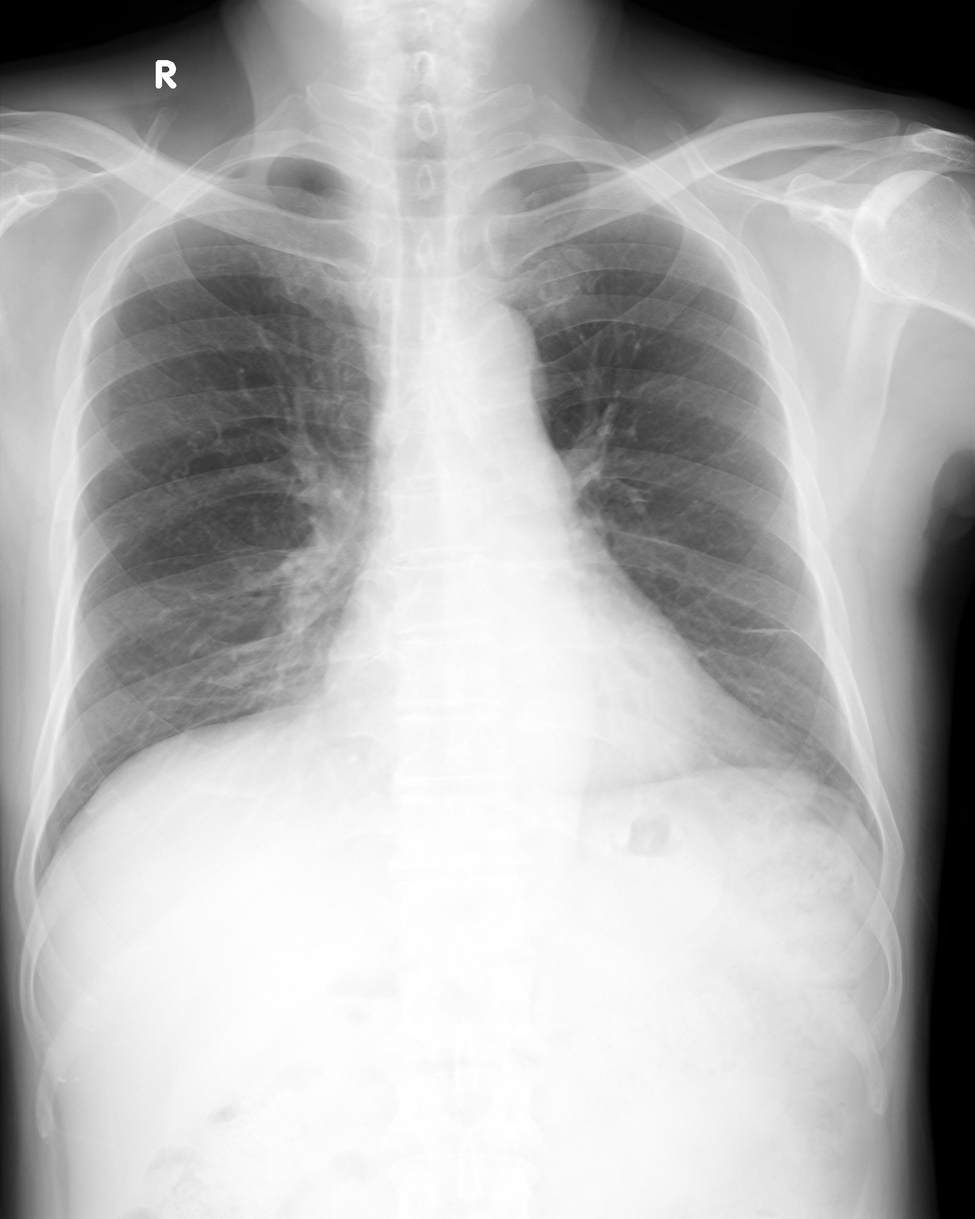Cardiomegaly: (329, 610, 781, 772)
Pulmonary fibrosis: (732, 616, 801, 641)
